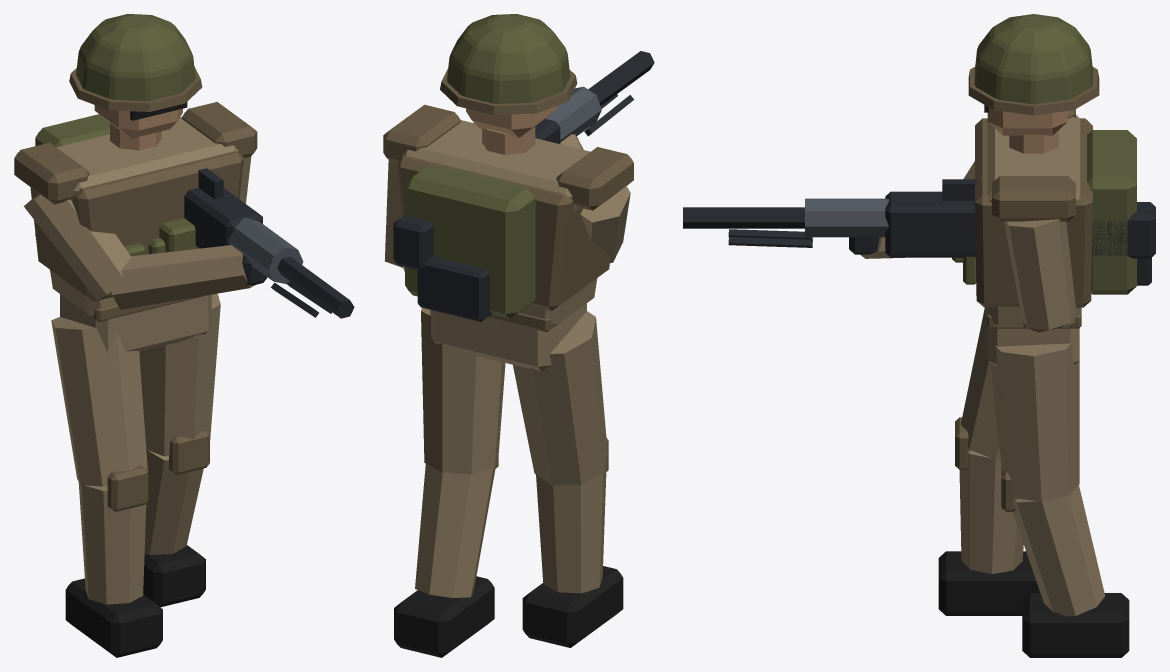
File: infanteria-ametralladora.glb
3 views of the same model, side by side, from view 1: azimuth 30°, elevation 25°; view 2: azimuth 150°, elevation 25°; view 3: azimuth 270°, elevation 25° (orthographic). The views are drawn at different scales.
Visible parts, largest first — view 1: turret_yaw, pierna_izq, gun_pitch, pierna_der; view 2: turret_yaw, pierna_izq, pierna_der, gun_pitch; view 3: turret_yaw, pierna_der, gun_pitch, pierna_izq.
Part boxes in pixels (bbox=[...]): turret_yaw: bbox=[14, 14, 257, 352]; pierna_izq: bbox=[51, 317, 162, 657]; gun_pitch: bbox=[24, 156, 354, 318]; pierna_der: bbox=[139, 293, 220, 607]; turret_yaw: bbox=[383, 14, 633, 371]; pierna_izq: bbox=[513, 311, 623, 647]; pierna_der: bbox=[394, 307, 505, 657]; gun_pitch: bbox=[384, 51, 654, 271]; turret_yaw: bbox=[963, 14, 1151, 366]; pierna_der: bbox=[990, 342, 1129, 657]; gun_pitch: bbox=[683, 161, 1155, 332]; pierna_izq: bbox=[938, 307, 1040, 615].
Size of the model in its own units: 1.39 by 3.5 by 2.48.
